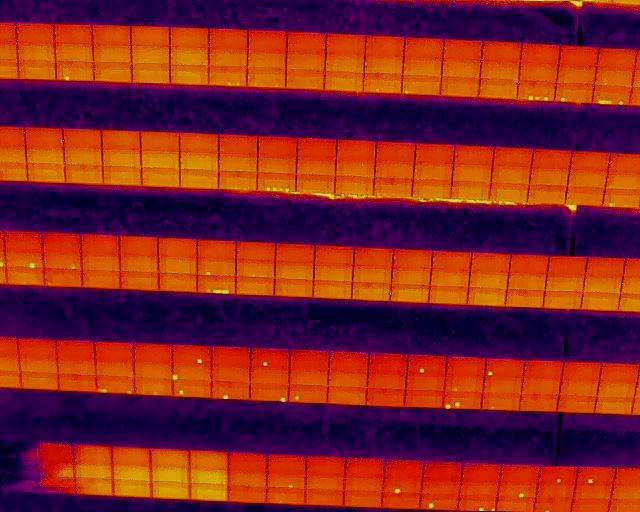Cell: (251, 349, 289, 369), (56, 61, 94, 81), (172, 345, 210, 364), (408, 354, 445, 373), (364, 74, 401, 93), (4, 251, 43, 269), (482, 392, 520, 410), (212, 381, 250, 399), (402, 76, 440, 94), (555, 83, 592, 101), (576, 467, 615, 484), (43, 252, 82, 269), (603, 189, 639, 207), (486, 358, 522, 376), (173, 380, 211, 397), (197, 259, 235, 276), (267, 472, 307, 488), (446, 375, 483, 392), (289, 385, 326, 402), (540, 466, 576, 483), (251, 385, 289, 401), (172, 364, 210, 380), (383, 479, 421, 494), (498, 482, 536, 497), (134, 379, 171, 394), (421, 495, 460, 509), (535, 499, 572, 512)
Cell-Multi: (209, 66, 247, 85), (257, 173, 296, 191), (96, 375, 134, 393), (518, 81, 555, 99), (444, 391, 481, 408), (459, 496, 496, 511)
No-Anomaly: (17, 338, 58, 360), (4, 230, 43, 251), (58, 341, 95, 363), (248, 31, 286, 52), (112, 446, 151, 466), (63, 128, 102, 148), (219, 135, 258, 155), (180, 134, 219, 154), (432, 252, 471, 272), (27, 162, 65, 182), (64, 164, 102, 184), (337, 140, 375, 160), (258, 137, 296, 157), (16, 24, 54, 44), (212, 347, 250, 367), (133, 344, 171, 364), (444, 41, 482, 61), (483, 42, 521, 62), (345, 459, 384, 478), (141, 132, 180, 151), (24, 127, 63, 146), (228, 451, 267, 470), (325, 73, 364, 92), (170, 65, 209, 84), (393, 250, 432, 269), (354, 248, 393, 267), (306, 456, 343, 476), (291, 350, 328, 370), (369, 353, 406, 373), (598, 48, 635, 68), (522, 44, 559, 64), (42, 232, 80, 251), (120, 236, 158, 255), (102, 131, 140, 150), (326, 35, 364, 54), (209, 30, 247, 49), (376, 142, 414, 161), (455, 146, 493, 165), (159, 238, 197, 257), (326, 53, 364, 72), (17, 60, 55, 79), (247, 68, 285, 87), (471, 253, 509, 272), (159, 256, 197, 275), (586, 257, 624, 276), (548, 257, 586, 276), (479, 79, 517, 98), (120, 272, 158, 291), (131, 26, 169, 45), (95, 343, 133, 362), (330, 352, 368, 371), (55, 42, 93, 61), (560, 46, 598, 65), (519, 63, 557, 82), (286, 70, 324, 89), (500, 464, 540, 482), (266, 453, 306, 471), (297, 139, 337, 157), (132, 63, 169, 82), (447, 356, 484, 375), (441, 77, 478, 96), (595, 67, 632, 86), (94, 62, 131, 81), (189, 450, 228, 468), (150, 449, 189, 467), (103, 167, 142, 185), (57, 374, 96, 392), (197, 241, 236, 259), (112, 463, 151, 481), (385, 460, 424, 478), (26, 146, 65, 164), (415, 144, 454, 162), (287, 52, 326, 70), (353, 266, 392, 284), (120, 255, 159, 273), (92, 25, 131, 43), (562, 361, 601, 379), (16, 42, 55, 60), (366, 36, 404, 54), (73, 444, 111, 462), (142, 168, 180, 186), (219, 171, 257, 189), (405, 39, 443, 57), (75, 478, 113, 496), (424, 461, 462, 479), (570, 152, 608, 170), (328, 387, 366, 405), (237, 242, 275, 260), (533, 149, 571, 167), (494, 148, 532, 166), (287, 32, 325, 50), (365, 55, 403, 73), (443, 60, 481, 78), (404, 58, 442, 76), (481, 62, 519, 80), (510, 254, 548, 272), (159, 274, 197, 292), (314, 280, 352, 298), (468, 288, 506, 306), (54, 24, 92, 42), (170, 28, 208, 46), (170, 47, 208, 65), (315, 246, 353, 264), (557, 65, 595, 83), (73, 461, 113, 478), (594, 397, 634, 414), (492, 166, 529, 184), (463, 463, 500, 481), (81, 234, 118, 252), (82, 253, 119, 271), (82, 270, 119, 288), (601, 363, 638, 381), (524, 360, 561, 378), (375, 162, 414, 179), (336, 159, 375, 176), (412, 180, 451, 197), (374, 178, 413, 195), (451, 182, 490, 199), (366, 389, 405, 406), (297, 158, 336, 175), (258, 156, 297, 173), (141, 151, 180, 168), (102, 150, 141, 167), (63, 148, 102, 165), (180, 153, 219, 170), (43, 269, 82, 286), (352, 283, 391, 300), (583, 275, 622, 292), (429, 286, 468, 303), (113, 479, 152, 496), (453, 165, 491, 182), (335, 176, 373, 193), (566, 187, 604, 204), (528, 186, 566, 203), (490, 184, 528, 201), (276, 244, 314, 261), (368, 372, 406, 389), (558, 395, 596, 412), (530, 169, 568, 186), (219, 154, 257, 171), (392, 268, 430, 285), (247, 51, 285, 68), (236, 260, 274, 277), (275, 262, 313, 279), (275, 280, 313, 297), (391, 284, 429, 301), (506, 289, 544, 306), (582, 292, 620, 309), (209, 48, 247, 65), (93, 44, 131, 61), (559, 379, 599, 395), (181, 170, 218, 187), (406, 373, 443, 390), (405, 390, 442, 407), (236, 278, 273, 295), (151, 481, 188, 498), (414, 163, 453, 179), (567, 170, 606, 186), (421, 480, 460, 496), (328, 372, 367, 388), (151, 466, 190, 482), (5, 269, 44, 285), (131, 45, 170, 61), (430, 270, 469, 286), (544, 292, 583, 308), (95, 360, 134, 376), (297, 175, 335, 191), (20, 373, 58, 389), (520, 395, 558, 411), (211, 366, 249, 382), (134, 362, 172, 378), (267, 488, 305, 504), (228, 486, 266, 502), (190, 484, 228, 500), (314, 265, 352, 281), (597, 382, 637, 397), (290, 370, 327, 386), (484, 376, 521, 392), (508, 273, 545, 289), (306, 490, 343, 506), (228, 470, 267, 485), (383, 493, 422, 508), (470, 272, 509, 287), (545, 276, 584, 291), (522, 378, 558, 394), (56, 362, 97, 376), (345, 478, 383, 493), (190, 468, 228, 483), (536, 484, 574, 499), (460, 481, 500, 495), (251, 369, 288, 384), (344, 493, 383, 507), (496, 497, 535, 511), (19, 359, 57, 373), (307, 476, 344, 490), (605, 172, 639, 187), (575, 485, 611, 499)
Shadowing: (0, 475, 38, 493), (0, 440, 37, 458), (38, 476, 75, 494), (36, 442, 73, 460), (0, 459, 37, 475), (38, 460, 74, 476)
Unclassified: (593, 85, 632, 104), (197, 275, 235, 292)
